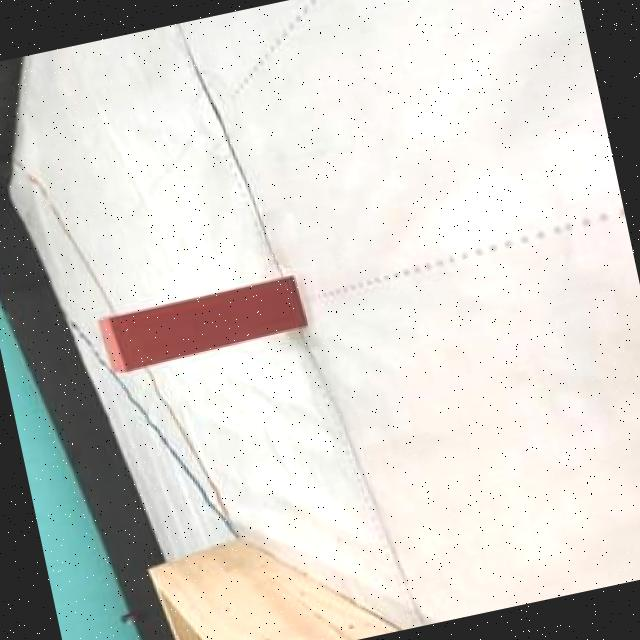redbox: (94, 276, 310, 374)
